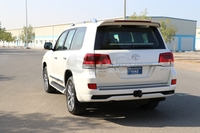car: (42, 21, 176, 115)
